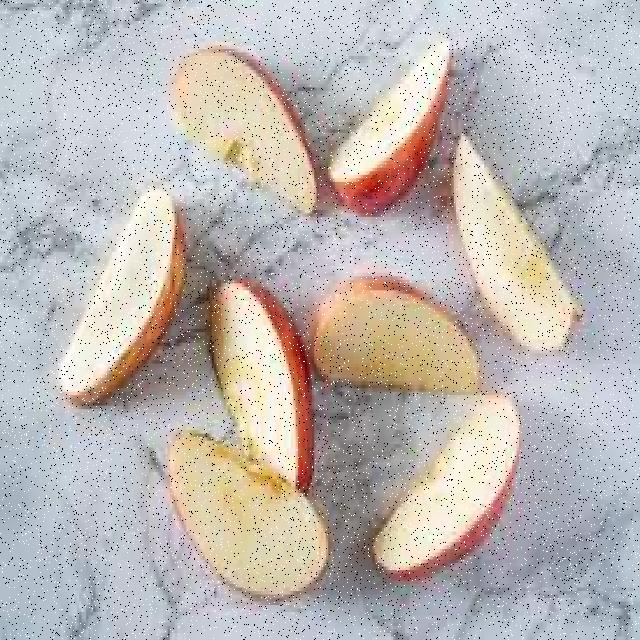Apple: (448, 128, 578, 351), (57, 188, 185, 408), (369, 397, 521, 575), (165, 430, 329, 585), (173, 42, 319, 211), (208, 274, 315, 493), (312, 270, 486, 394), (326, 42, 448, 208)
